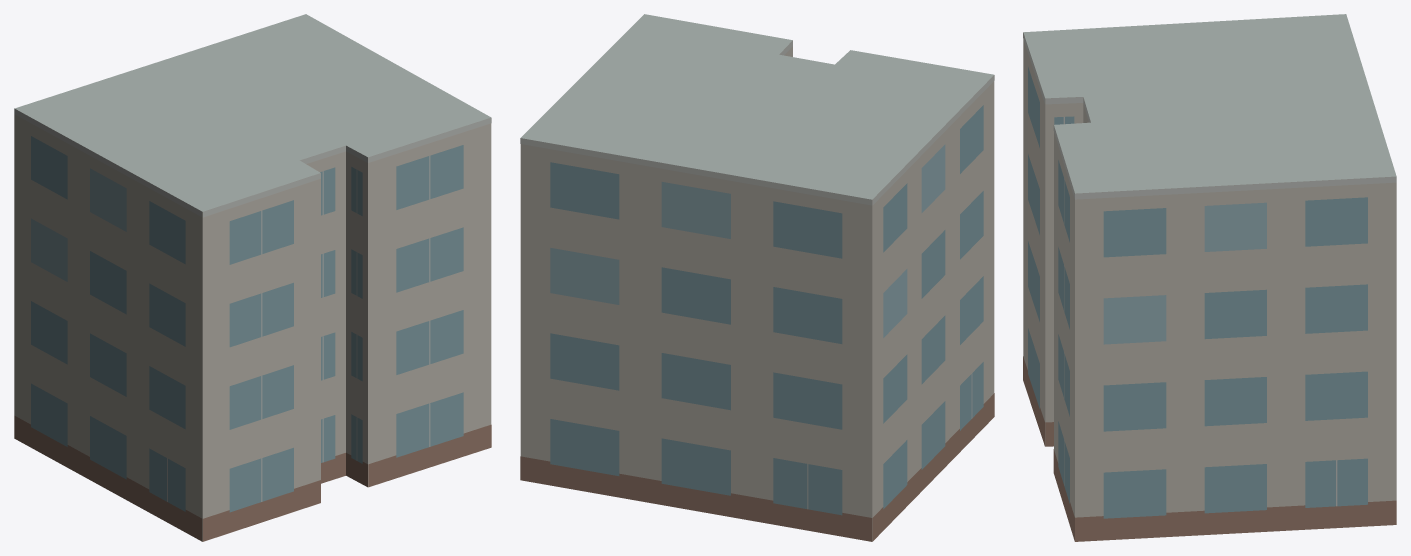
The model's file is survey-upis-32587762.glb.
The picture shows the model from 3 angles, left to right: view 1: azimuth 30°, elevation 25°; view 2: azimuth 150°, elevation 25°; view 3: azimuth 270°, elevation 25°; orthographic projection. The views are drawn at different scales.
Visible parts, largest first — view 1: survey-upis-32587762.tmp; view 2: survey-upis-32587762.tmp; view 3: survey-upis-32587762.tmp.
Part boxes in pixels (left/top/right/bottom): survey-upis-32587762.tmp: left=14, top=14, right=491, bottom=541; survey-upis-32587762.tmp: left=520, top=14, right=994, bottom=541; survey-upis-32587762.tmp: left=1023, top=14, right=1396, bottom=541.
Bounding box in the file's own units: 15.48 × 14 × 13.61.
